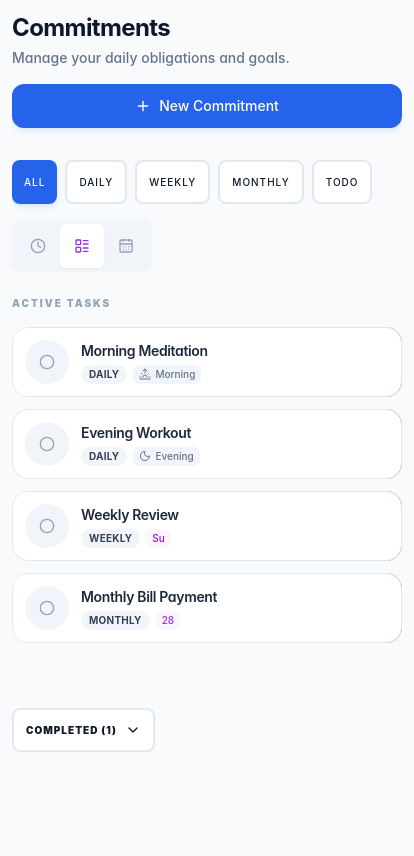
CommitmentsView › Task Filtering › filters to show only weekly tasks
Click the button "weekly".
click(173, 182)  # box [135, 160, 210, 204]
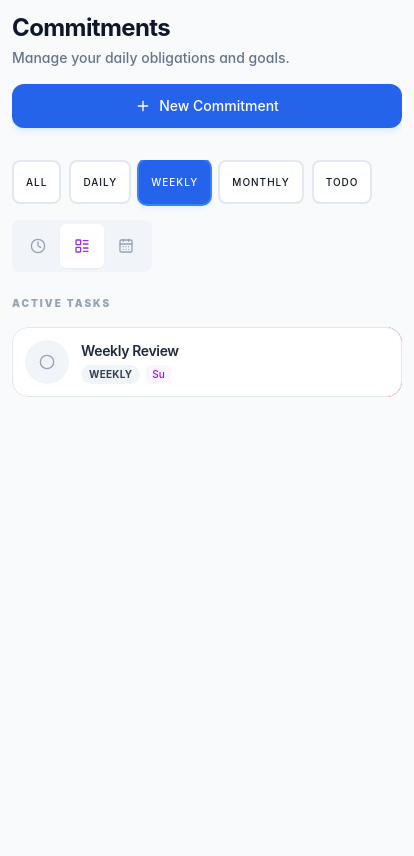
Expected: the button "Weekly Review" is shown, [81, 340, 179, 360]
Expected: the button "Morning Meditation" is gone
Expected: the button "Monthly Bill Payment" is gone
